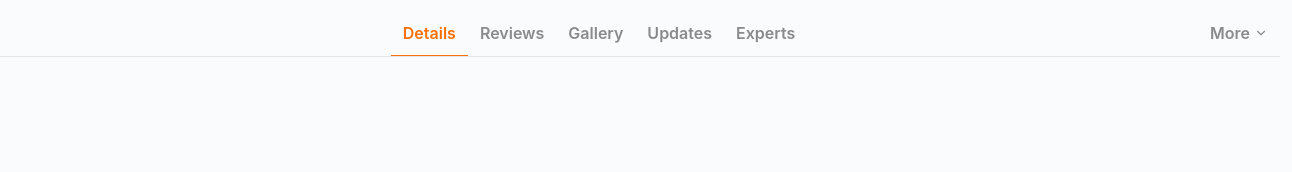
Test: HorizontalTabNavWithOverflow › opens a menu with overflow tabs when More is clicked
Click the button with aria-label "More sections". click: (1239, 34)
box: [1198,12,1280,57]
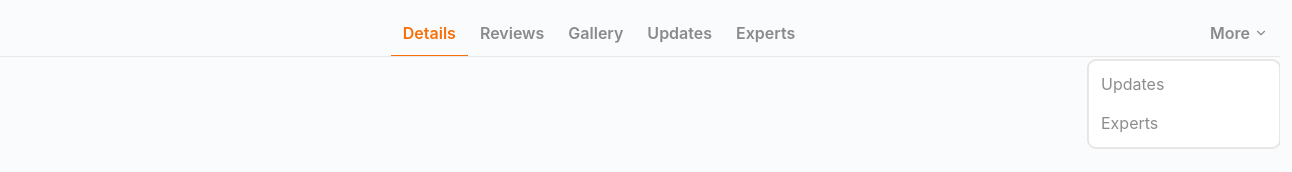
Check: the menu is shown, box [1088,60,1280,148]
Check: the menu item "Updates" is shown, box [1089,65,1279,104]
Check: the menu item "Experts" is shown, box [1089,104,1279,143]
